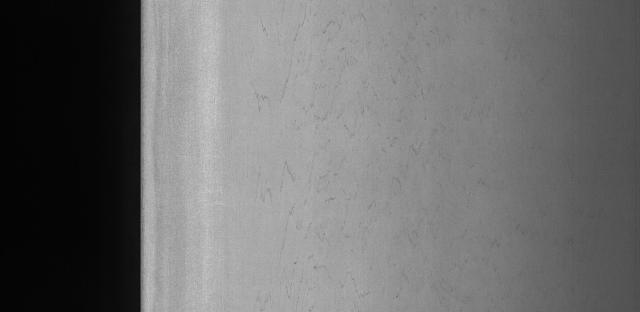silk_spot: (247, 16, 442, 252)
